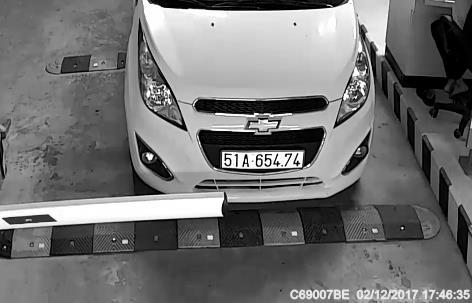License-plate: (217, 132, 310, 190)
